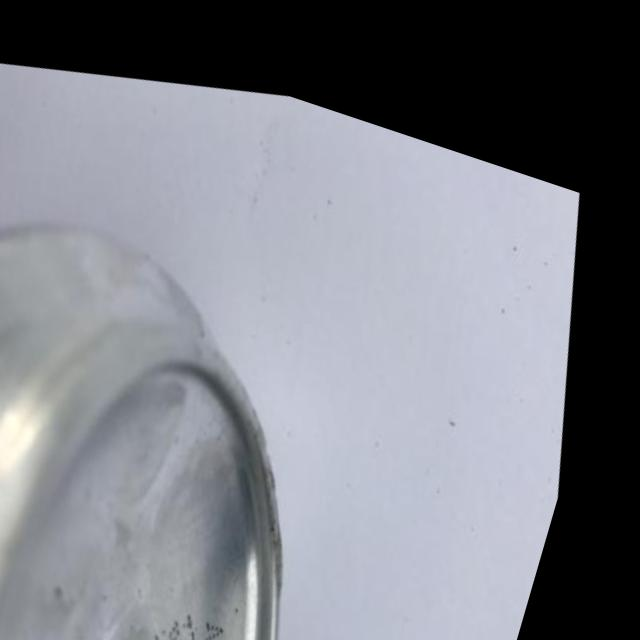metal: (0, 35, 472, 640)
